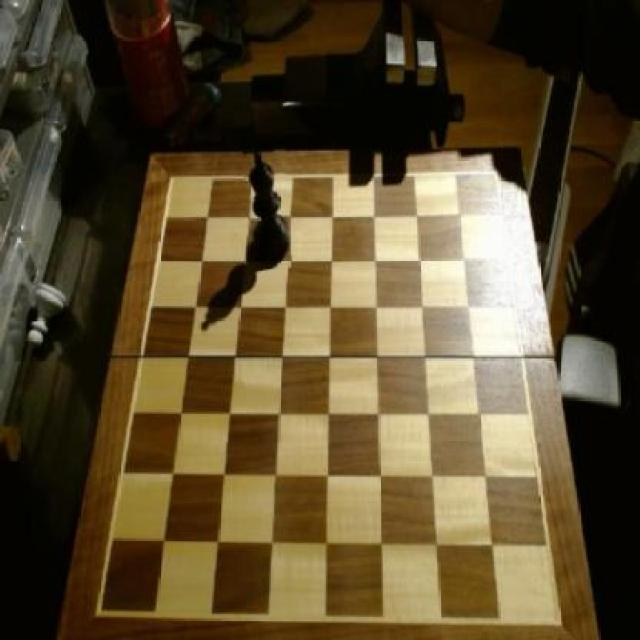black-bishop: (246, 143, 292, 270)
